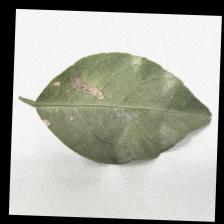canker: (41, 59, 116, 130)
